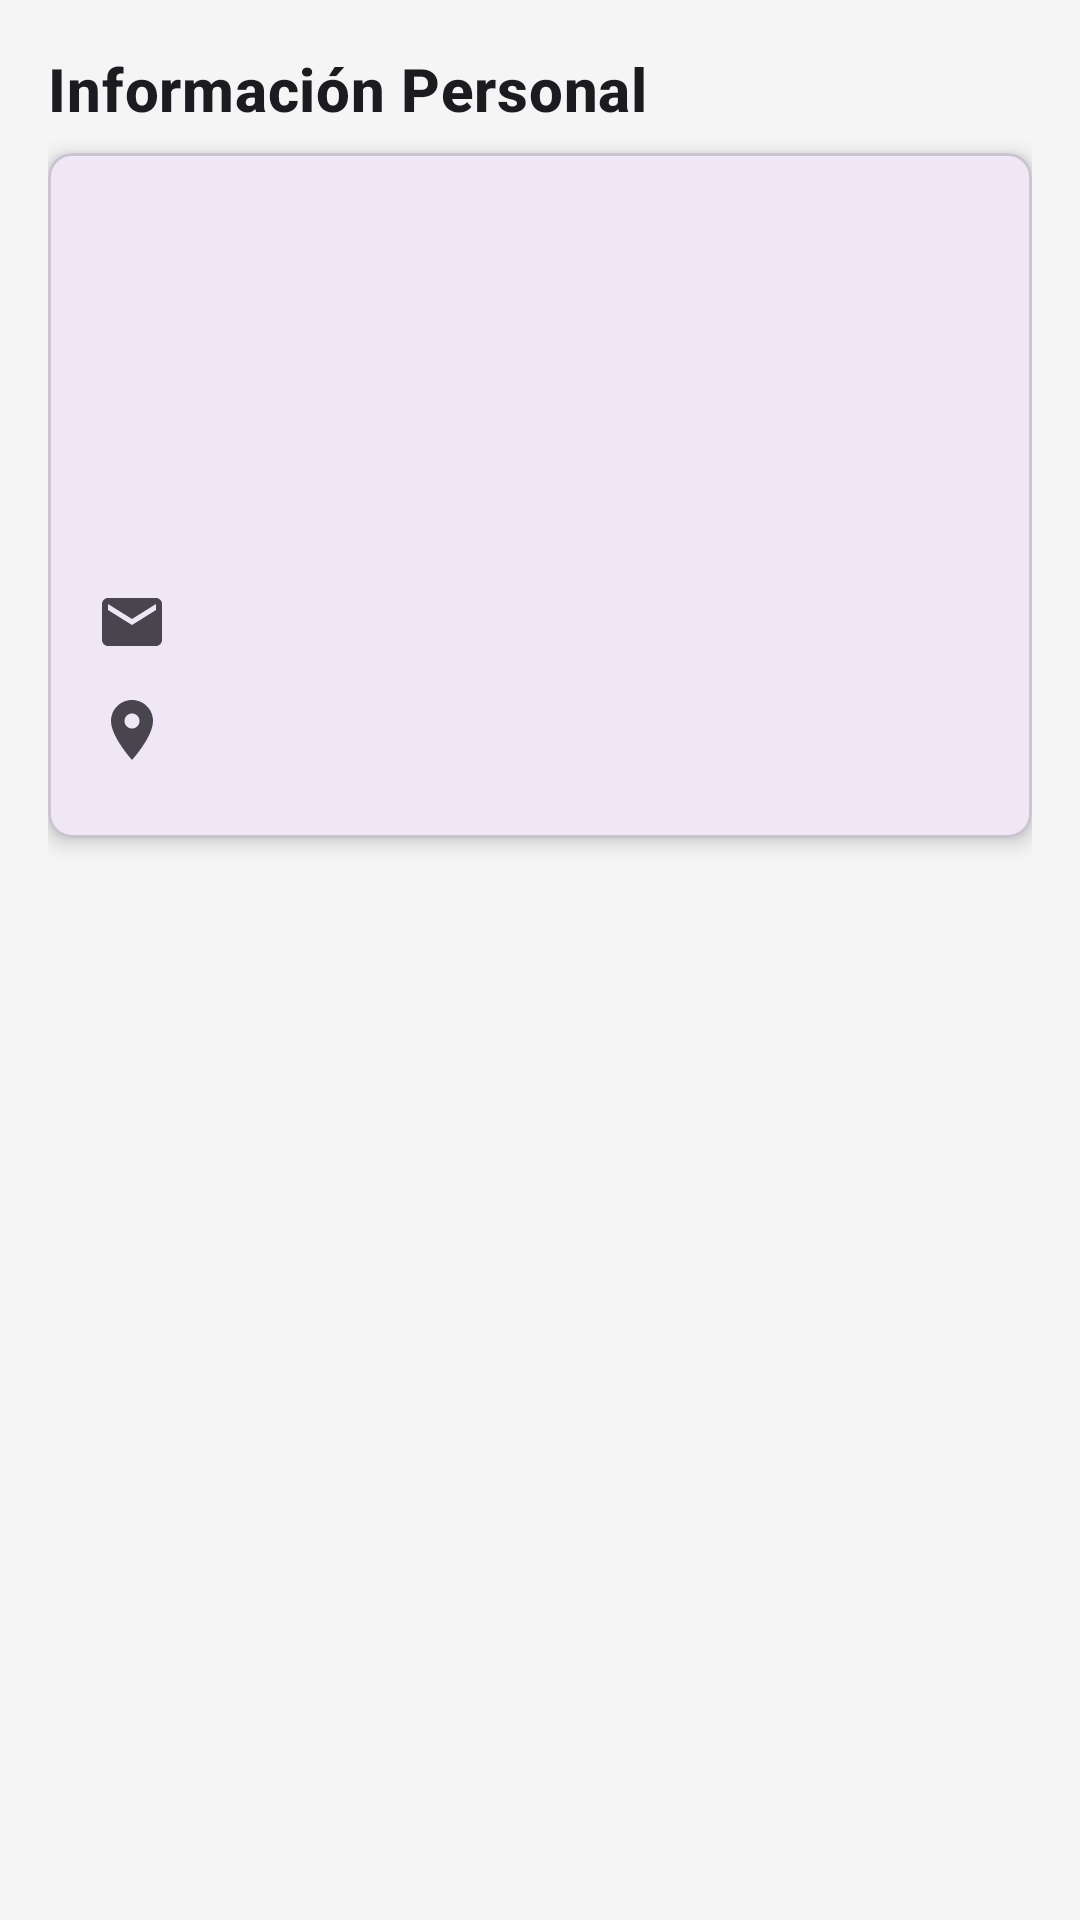

Screen size 1080px x 1920px. Icon name, then its center in pixels as point (x, y):
email: point (132, 622)
location: point (132, 730)
